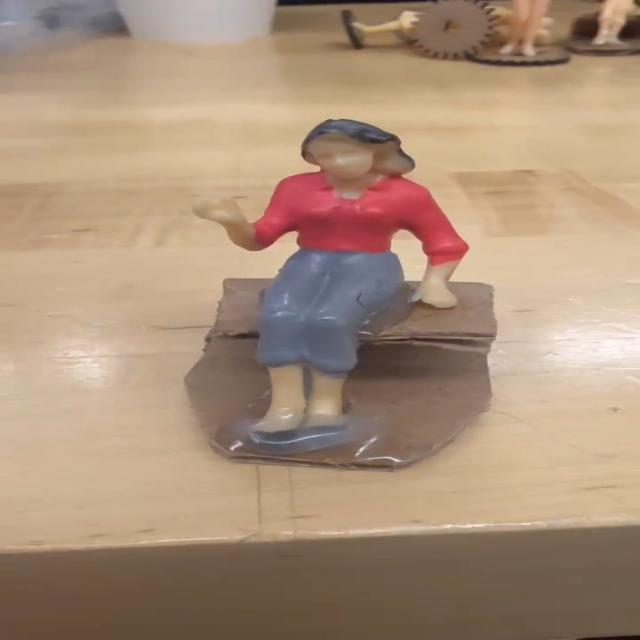Authorized: (178, 106, 467, 452)
